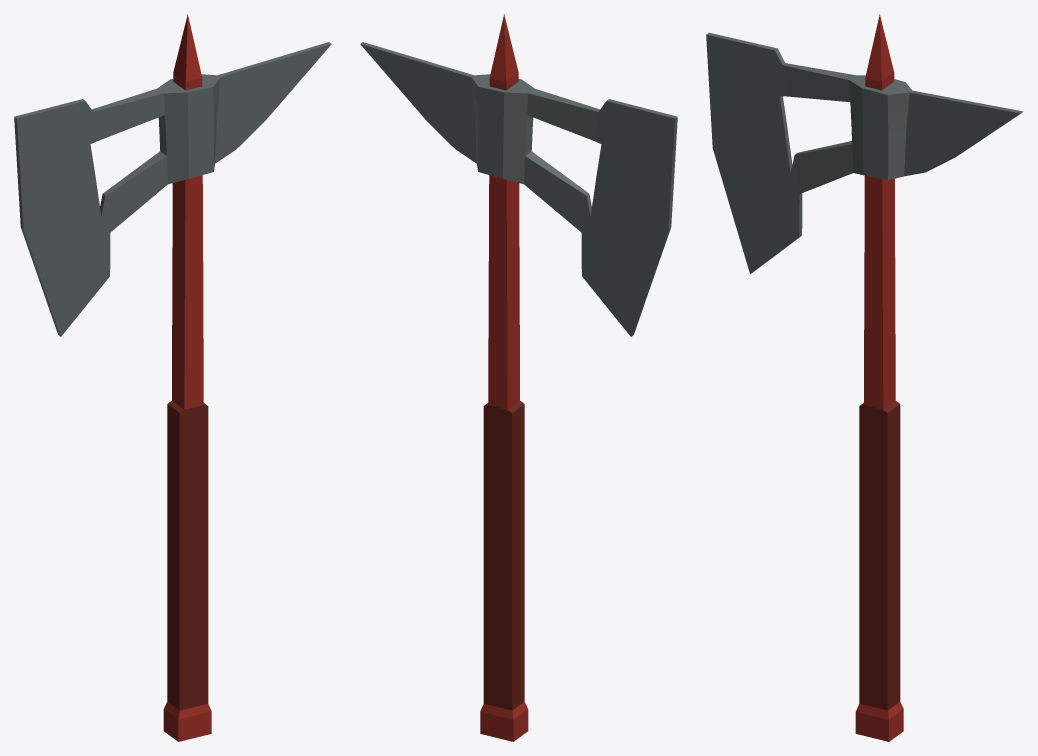
The model's file is Axe_5_Red.fbx.
3 views of the same model, side by side, from view 1: azimuth 30°, elevation 25°; view 2: azimuth 150°, elevation 25°; view 3: azimuth 330°, elevation 25° (orthographic).
Visible parts, largest first — view 1: Axe_5_Red_Part_1, Axe_5_Red_Part_3, Axe_5_Red_Part_2; view 2: Axe_5_Red_Part_1, Axe_5_Red_Part_3, Axe_5_Red_Part_2; view 3: Axe_5_Red_Part_1, Axe_5_Red_Part_3, Axe_5_Red_Part_2.
Part boxes in pixels (<box>): Axe_5_Red_Part_1: <box>14,42,331,336</box>; Axe_5_Red_Part_3: <box>167,401,208,710</box>; Axe_5_Red_Part_2: <box>163,14,211,741</box>; Axe_5_Red_Part_1: <box>360,42,677,336</box>; Axe_5_Red_Part_3: <box>483,401,524,710</box>; Axe_5_Red_Part_2: <box>480,14,528,741</box>; Axe_5_Red_Part_1: <box>706,32,1023,274</box>; Axe_5_Red_Part_3: <box>859,400,900,710</box>; Axe_5_Red_Part_2: <box>855,14,903,741</box>.
Size of the model in its own units: 36.84 by 80.34 by 3.59.
